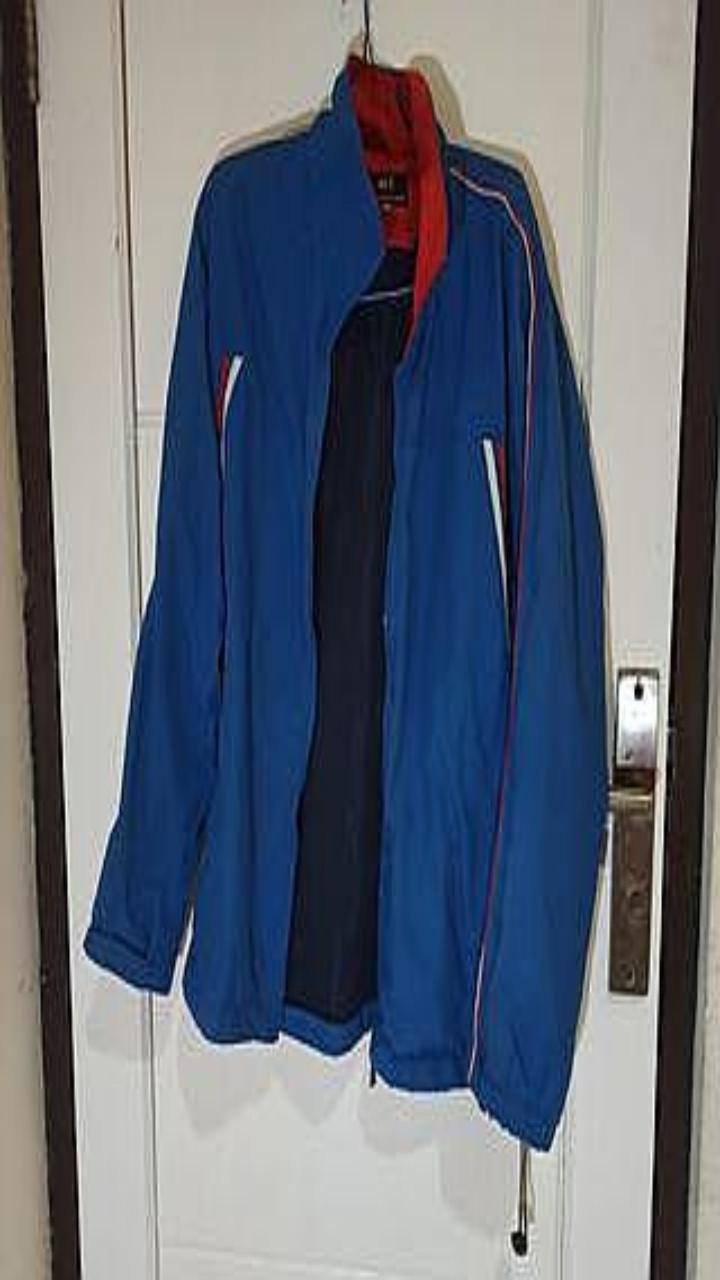Sports_Jacket: (84, 56, 606, 1148)
